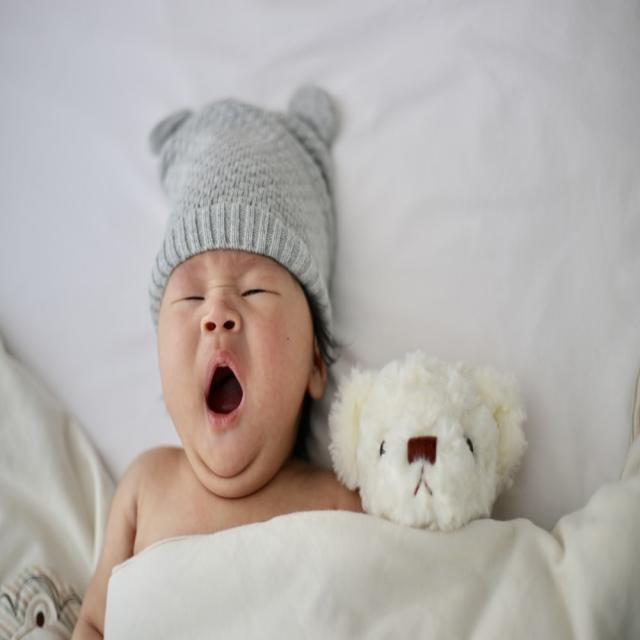non-dog: (330, 350, 526, 533)
